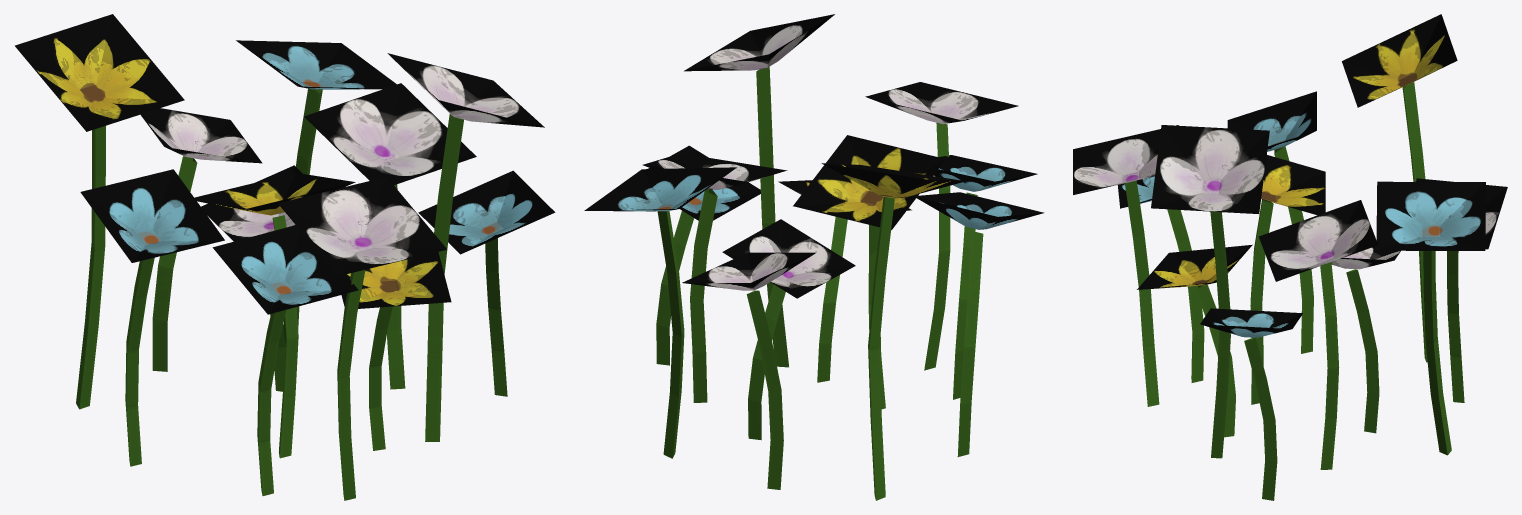
The model's file is Flower1.fbx.
The picture shows the model from 3 angles, left to right: view 1: azimuth 30°, elevation 25°; view 2: azimuth 150°, elevation 25°; view 3: azimuth 270°, elevation 25°; orthographic projection. The views are drawn at different scales.
Visible parts, largest first — view 1: Cylinder.012; view 2: Cylinder.012; view 3: Cylinder.012.
Boxes of the visible parts, box(x1,y1,x2,y2) form: Cylinder.012: box(15, 14, 555, 500); Cylinder.012: box(584, 14, 1044, 500); Cylinder.012: box(1073, 14, 1507, 500).
Size of the model in its own units: 0.5384 by 0.4547 by 0.5592.
